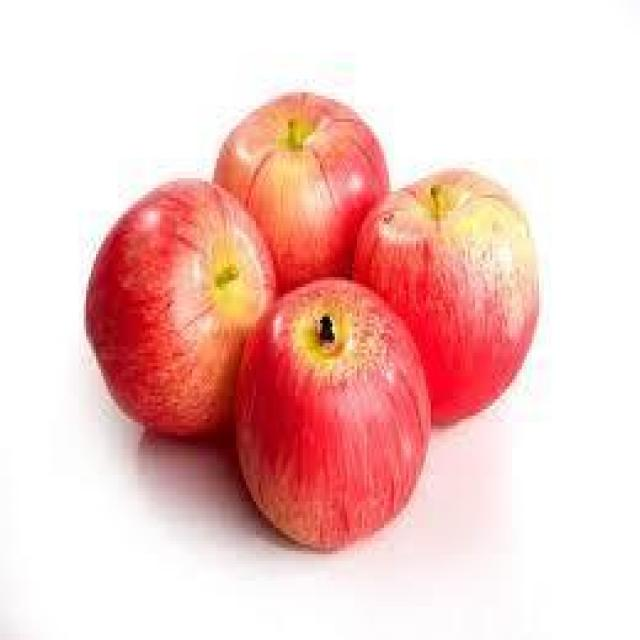maca: (81, 86, 539, 551), (231, 274, 431, 551), (81, 175, 276, 439), (350, 165, 539, 422), (212, 89, 389, 290)
